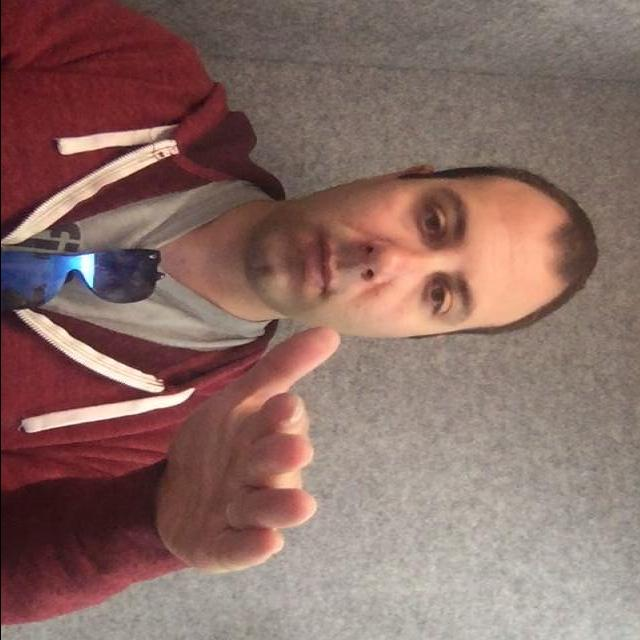Paper: (143, 322, 350, 588)
